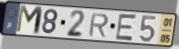2: (67, 10, 87, 39)
5: (138, 15, 159, 44)
8: (41, 8, 59, 36)
E: (114, 13, 139, 42)
M: (15, 4, 45, 36)
R: (87, 12, 110, 38)
